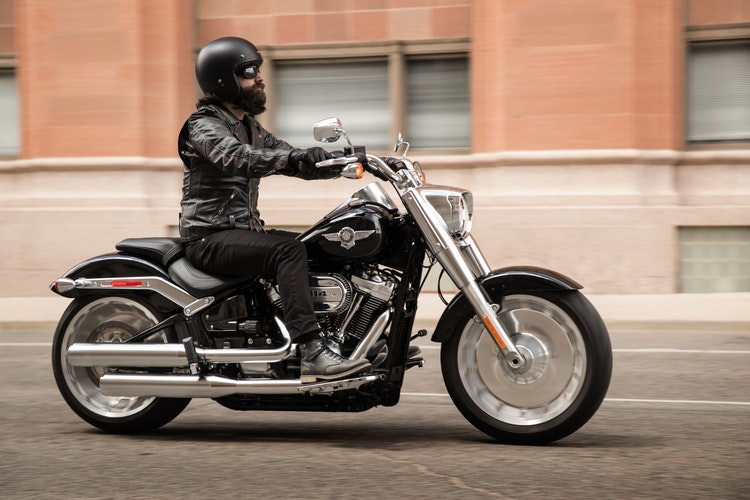helmet: (198, 38, 275, 97)
